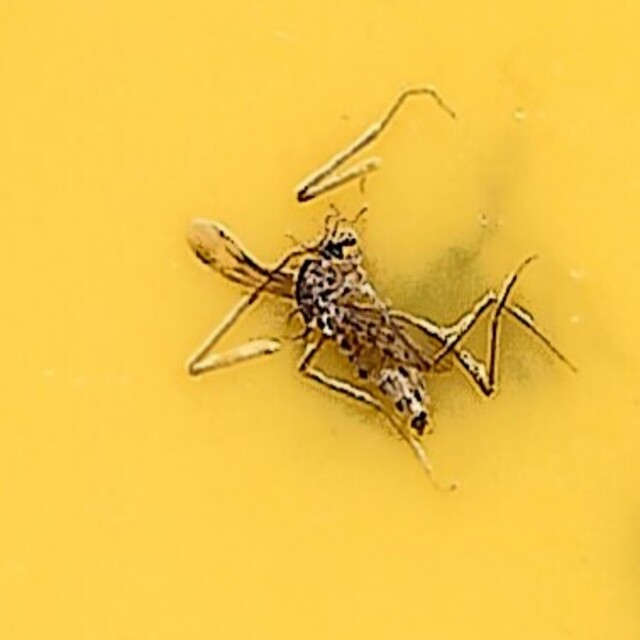Nematocera: (169, 194, 471, 446)
